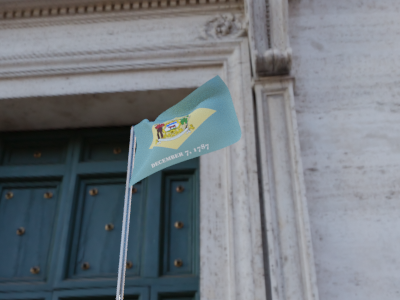Delaware flag: (128, 73, 241, 187)
